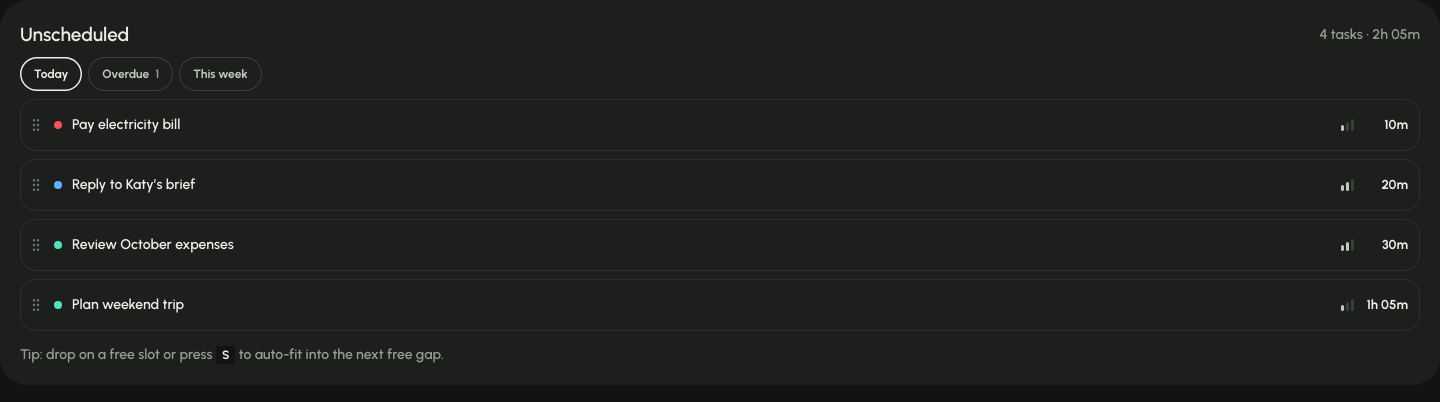
UnscheduledCard › the pills switch the list: Overdue, This week
Click the radio button labelled "Overdue 1": (131, 74) [88,57,173,91]
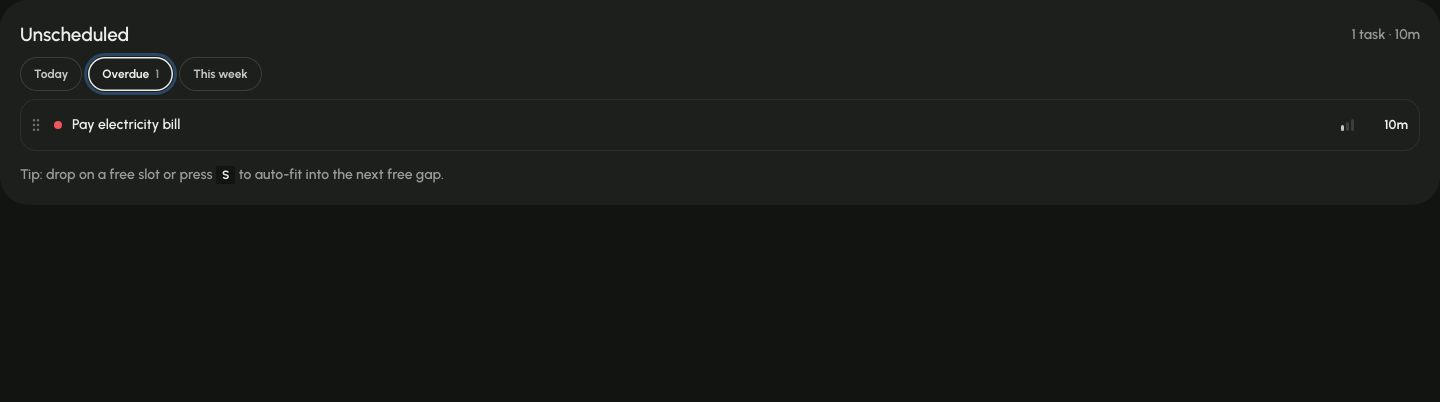
Expected: the text "1 task · 10m" is shown, [1351,25,1420,45]
Click the radio button labelled "This week": (220, 74) [179,57,262,91]
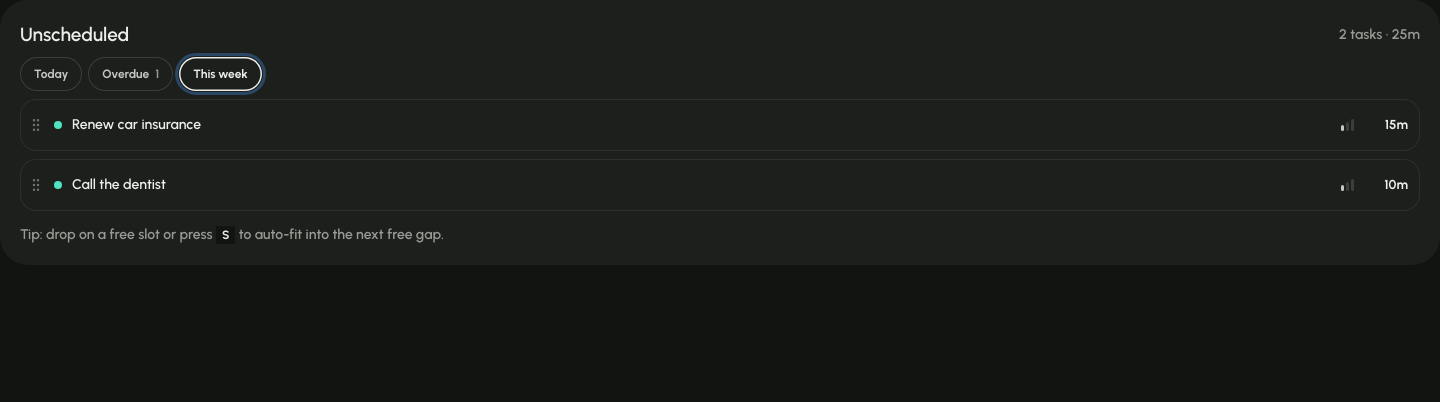
Expected: the text "Renew car insurance" is shown, [72,115,201,135]
